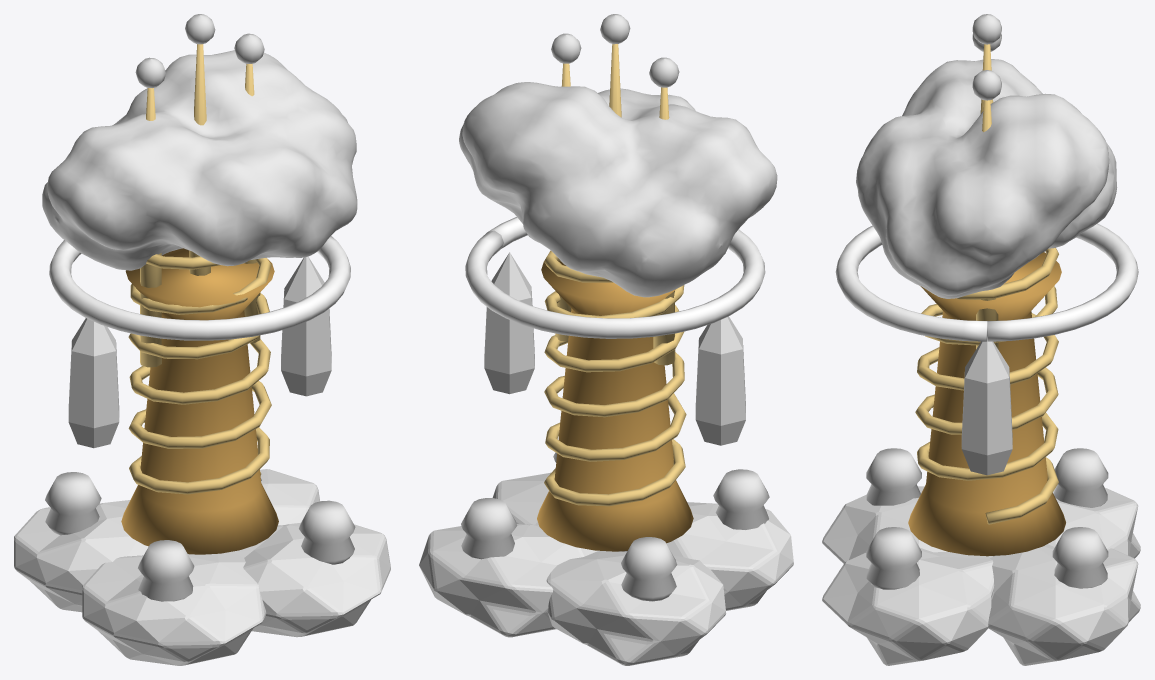
Rendered from thunder-3.fbx.
The picture shows the model from 3 angles, left to right: view 1: azimuth 30°, elevation 25°; view 2: azimuth 150°, elevation 25°; view 3: azimuth 270°, elevation 25°; orthographic projection.
Visible parts, largest first — view 1: ContinuousStormCloud, Turret_Metal, Base_Stone, Turret_Glow, ConductiveHalo, Base_Organic; view 2: ContinuousStormCloud, Base_Stone, Turret_Metal, Turret_Glow, ConductiveHalo, Base_Organic; view 3: ContinuousStormCloud, Base_Stone, Turret_Metal, Base_Organic, ConductiveHalo, Turret_Glow.
Boxes of the visible parts, <box> form: ContinuousStormCloud: <box>42,50,357,270</box>; Turret_Metal: <box>121,44,278,554</box>; Base_Stone: <box>14,469,390,665</box>; Turret_Glow: <box>68,14,331,448</box>; ConductiveHalo: <box>49,236,350,340</box>; Base_Organic: <box>45,472,355,601</box>; ContinuousStormCloud: <box>459,82,777,297</box>; Base_Stone: <box>419,472,793,665</box>; Turret_Metal: <box>537,44,693,551</box>; Turret_Glow: <box>484,14,745,445</box>; ConductiveHalo: <box>465,217,765,338</box>; Base_Organic: <box>461,452,769,601</box>; ContinuousStormCloud: <box>856,59,1117,298</box>; Base_Stone: <box>822,486,1140,665</box>; Turret_Metal: <box>908,44,1065,556</box>; Base_Organic: <box>866,448,1108,589</box>; ConductiveHalo: <box>835,223,1138,341</box>; Turret_Glow: <box>961,14,1012,475</box>.
Bounding box in the file's own units: 78.43 × 151 × 72.59.
